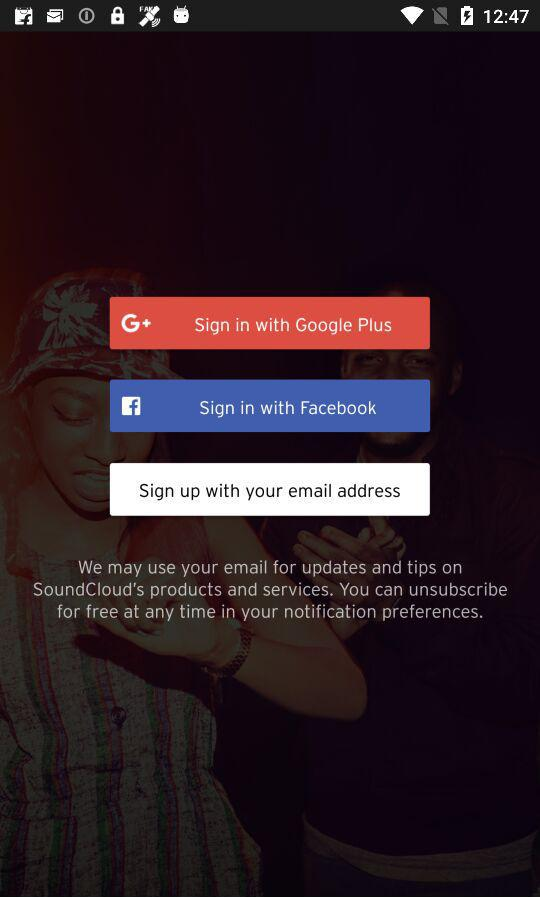BackgroundImage: (1, 33, 540, 897)
Text: (34, 560, 508, 623)
TextButton: (109, 297, 430, 351), (110, 463, 430, 517), (111, 380, 431, 433)
UpperTaskBar: (1, 1, 540, 33)
